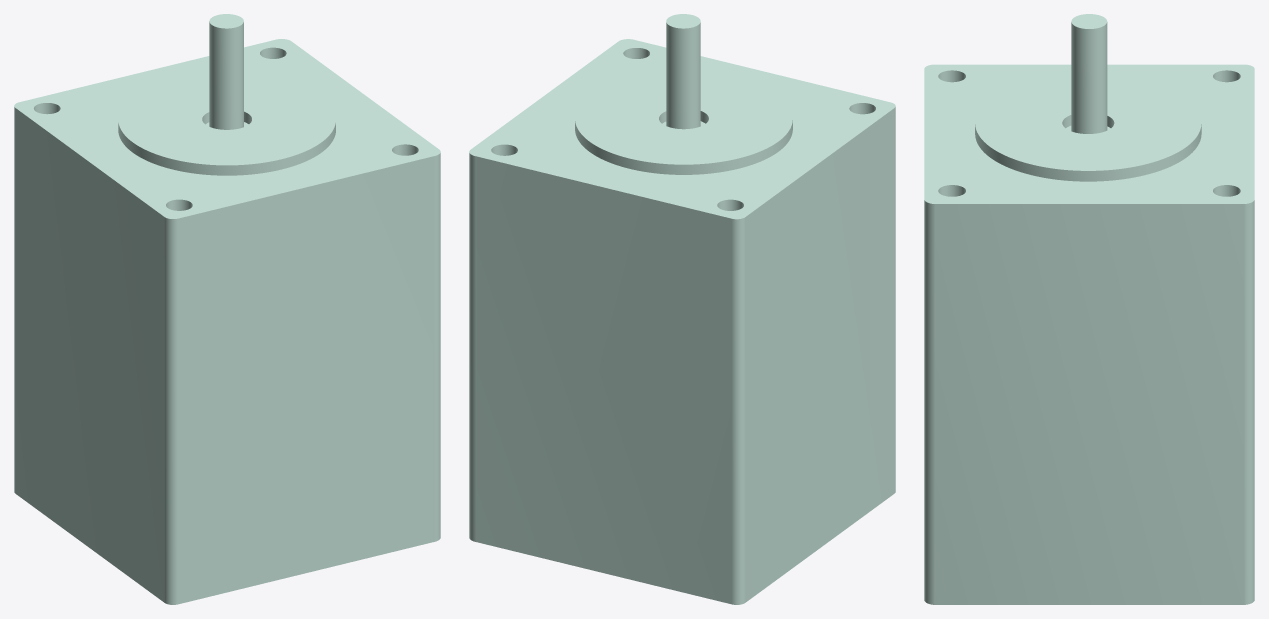
File: expected.gltf
3 renders of one model, left to right at view 1: azimuth 30°, elevation 25°; view 2: azimuth 150°, elevation 25°; view 3: azimuth 270°, elevation 25°, orthographic. The views are drawn at different scales.
Parts seen in each view (by area): view 1: Renderer Node; view 2: Renderer Node; view 3: Renderer Node.
Boxes of the visible parts, x1,y1,x2,y2 form: Renderer Node: [14, 14, 440, 604]; Renderer Node: [469, 14, 895, 604]; Renderer Node: [924, 14, 1254, 604].
Bounding box in the file's own units: 0.4375 × 0.75 × 0.4378.
